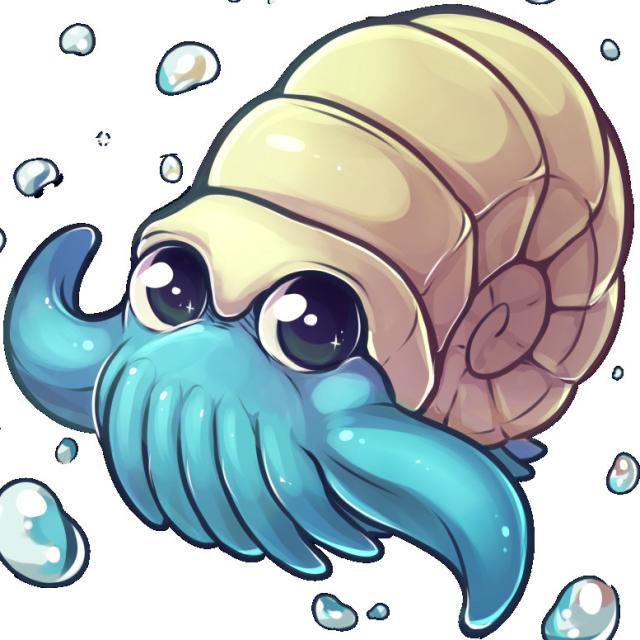Omanyte: (84, 2, 627, 569)
